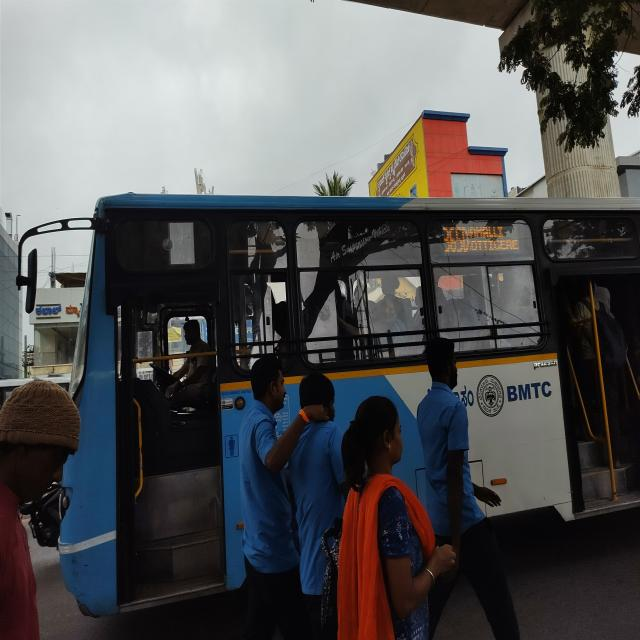bus: (26, 175, 640, 605)
display: (441, 221, 528, 256)
dnumber: (443, 225, 469, 253)
